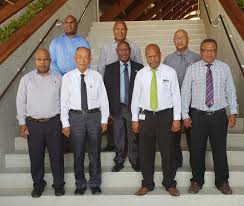F_belt: (67, 105, 100, 117)
F_dress pants: (187, 105, 232, 184), (138, 106, 176, 187), (25, 114, 66, 189), (66, 107, 104, 186)
F_shirt: (181, 55, 242, 118), (57, 66, 110, 126), (131, 65, 180, 122), (18, 70, 65, 123)
F_tie: (119, 64, 134, 109), (202, 63, 215, 109), (76, 74, 90, 112), (149, 67, 158, 112)
